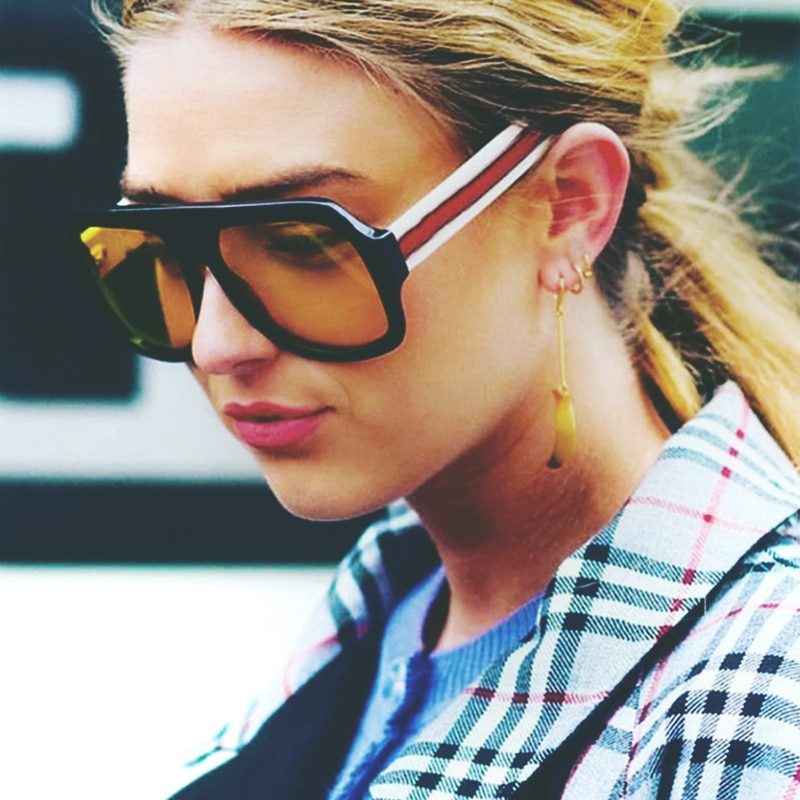sunglasses: (58, 175, 486, 367)
